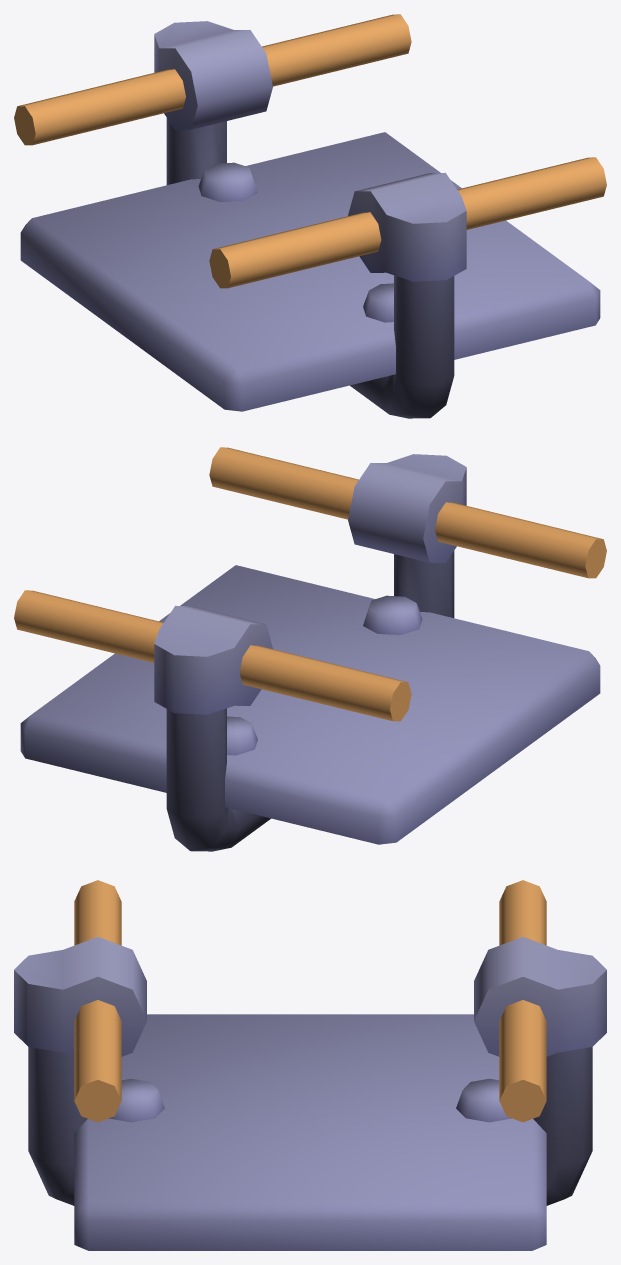
File: catwalk-straight.glb
3 views of the same model, one above another, from view 1: azimuth 30°, elevation 25°; view 2: azimuth 150°, elevation 25°; view 3: azimuth 270°, elevation 25° (orthographic). The views are drawn at different scales.
Visible parts, largest first — view 1: catwalk-straight; view 2: catwalk-straight; view 3: catwalk-straight.
Boxes of the visible parts, box(x1,y1,x2,y2) form: catwalk-straight: box(14, 14, 606, 418); catwalk-straight: box(14, 447, 606, 851); catwalk-straight: box(14, 880, 606, 1250).
Size of the model in its own units: 1 by 0.6014 by 1.26.
Materials: 1 (1 with a texture image).
